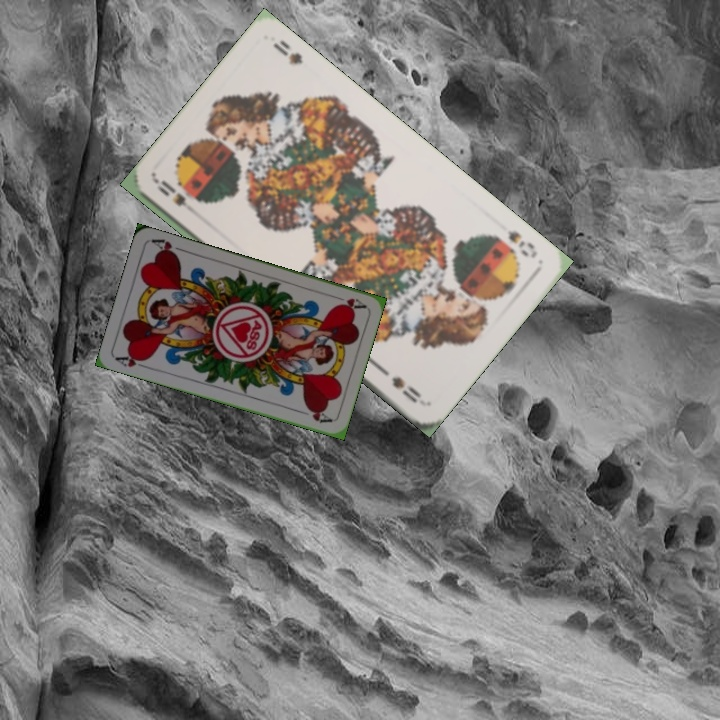HA: (112, 350, 152, 371), (328, 291, 368, 312)
SO: (152, 176, 203, 220), (502, 225, 540, 261)
